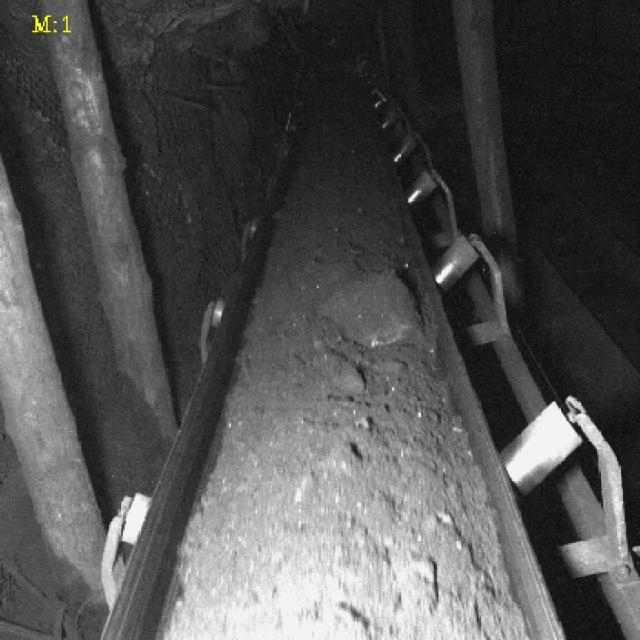large_sized_coal: (311, 266, 423, 346)
